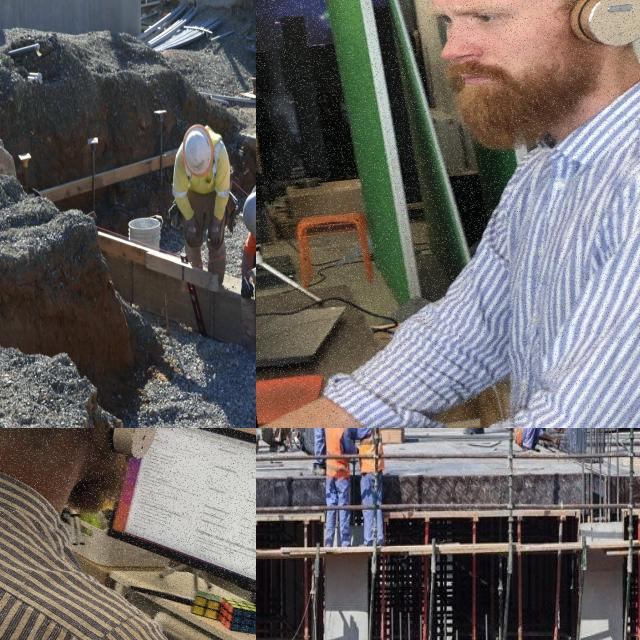Ear-protection: (407, 0, 640, 133), (0, 428, 211, 528)
hand_glove: (184, 214, 202, 250), (208, 218, 225, 246)
head_helmet: (184, 126, 210, 170), (247, 191, 256, 243)
person: (172, 127, 232, 272), (357, 428, 390, 546), (326, 428, 355, 548), (520, 428, 559, 458), (269, 428, 296, 446), (314, 428, 325, 459)
vest: (173, 158, 228, 214), (355, 428, 389, 472), (325, 428, 350, 478), (517, 428, 530, 441)
